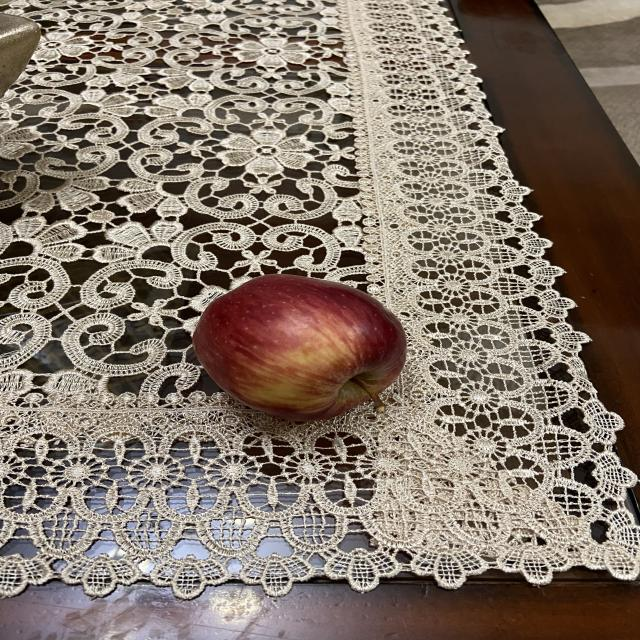apple: (191, 270, 409, 424)
